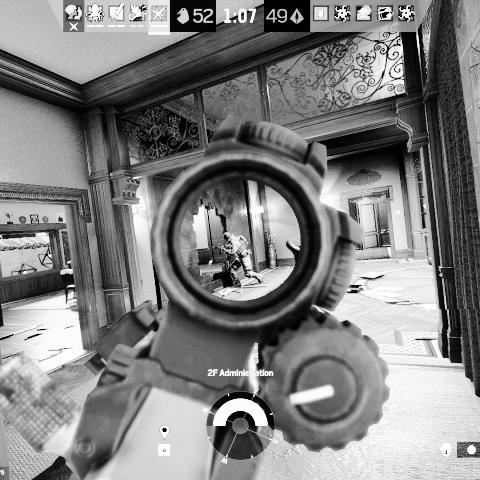Character: (208, 230, 267, 289)
Head: (223, 231, 232, 242)
